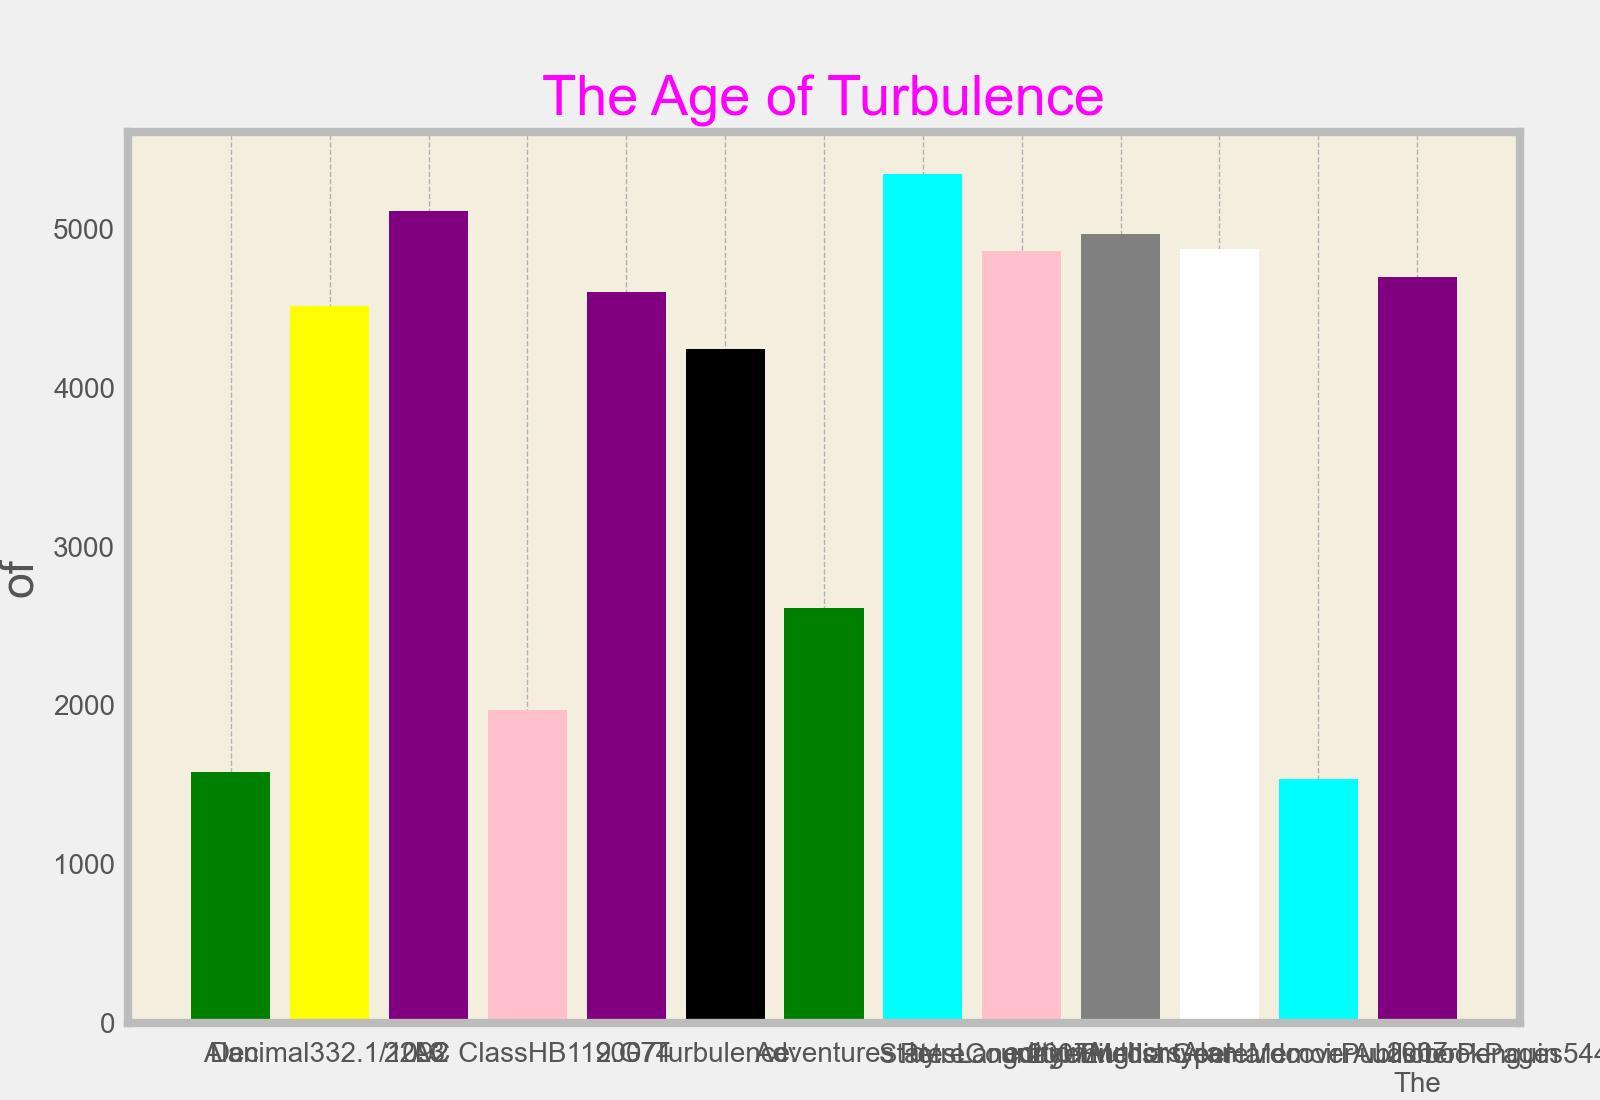axis: (0, 219, 116, 1039)
rectangle: (884, 174, 963, 1023), (389, 211, 468, 1023), (1081, 235, 1160, 1023), (1181, 249, 1260, 1023), (982, 252, 1061, 1023), (1378, 277, 1457, 1023), (587, 292, 666, 1023), (291, 306, 370, 1023), (686, 349, 765, 1023), (784, 608, 863, 1023), (488, 710, 567, 1023), (192, 772, 270, 1023), (1279, 779, 1358, 1023)
